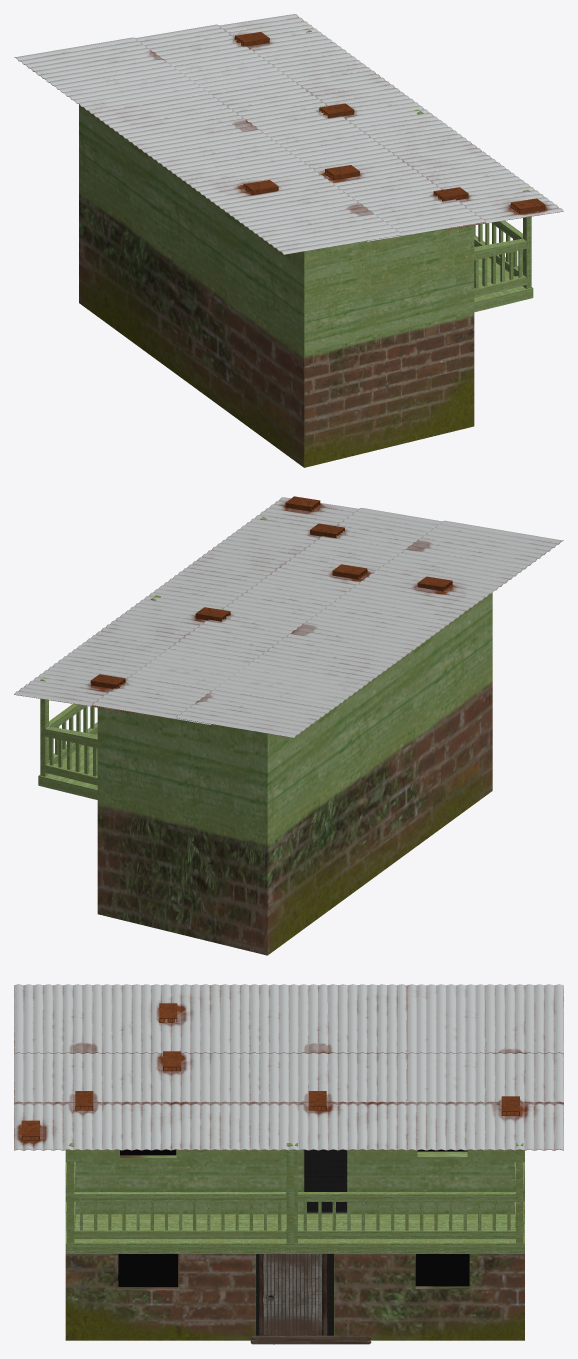
File: Casa01.fbx
The picture shows the model from 3 angles, top to bottom: view 1: azimuth 30°, elevation 25°; view 2: azimuth 150°, elevation 25°; view 3: azimuth 270°, elevation 25°; orthographic projection.
Parts seen in each view (by area): view 1: Casa 02, Techo_1.002; view 2: Casa 02, Techo_1.002; view 3: Techo_1.002, Casa 02, Detalles_Casa.004.
Boxes of the visible parts, bbox=[...] form: Casa 02: bbox=[79, 28, 533, 467]; Techo_1.002: bbox=[14, 14, 563, 254]; Casa 02: bbox=[38, 516, 492, 955]; Techo_1.002: bbox=[14, 496, 563, 737]; Techo_1.002: bbox=[14, 984, 563, 1150]; Casa 02: bbox=[65, 1143, 524, 1340]; Detalles_Casa.004: bbox=[250, 1254, 371, 1344].
Size of the model in its own units: 3637 by 3051 by 6055.
